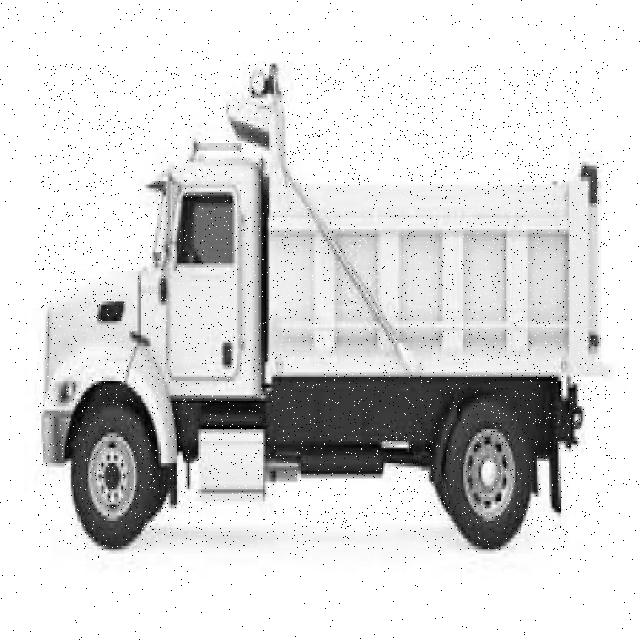Box Truck: (38, 64, 610, 552)
